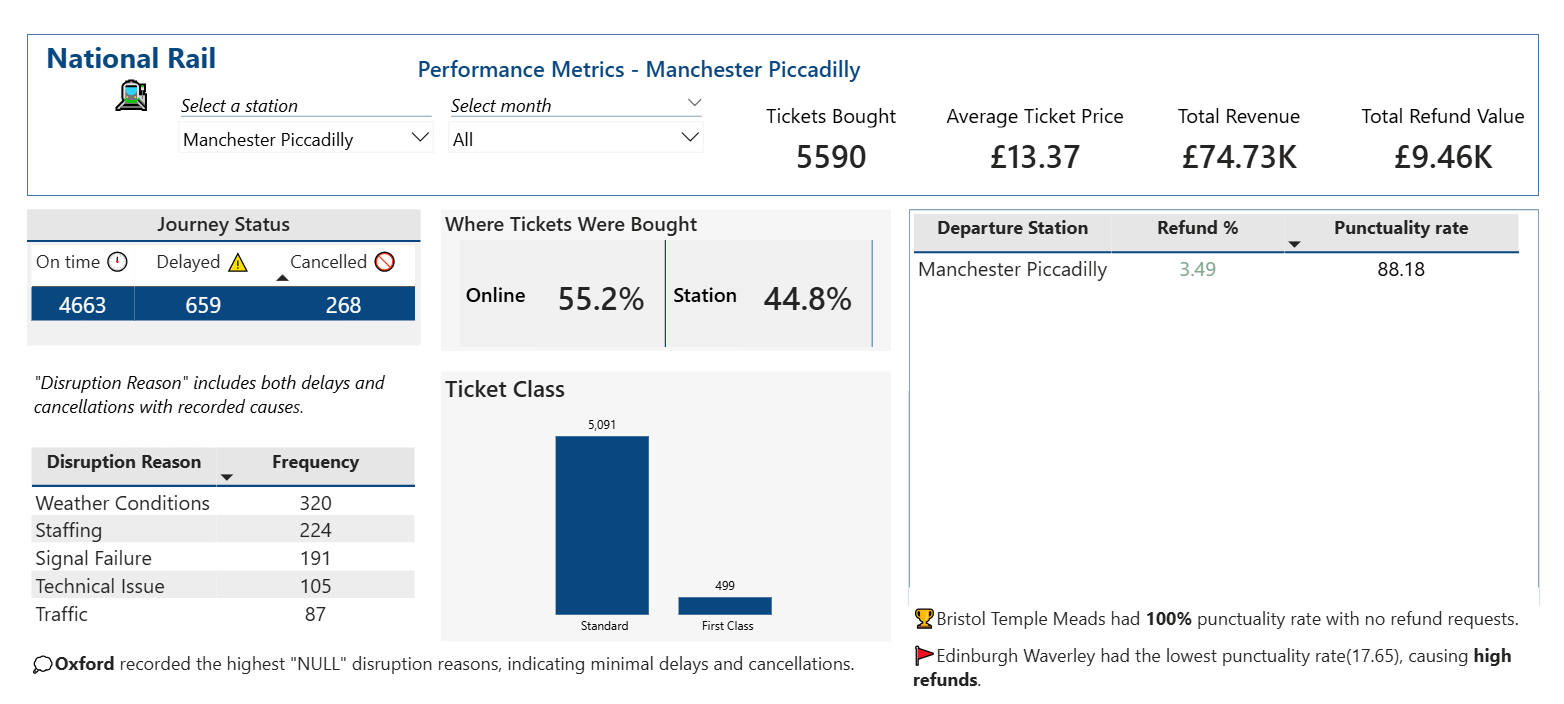

The dashboard page shown, as its layout file describes it:
{"tool":"powerbi","page":{"name":"Overview","canvas":[2100,950],"ordinal":0},"visuals":[{"type":"shape","box":[48,48,2016,216],"z":0},{"type":"tableEx","title":"Delay Information ","fields":{"Values":["Dim Delay_Reason.Delay_Reason","Rail Service Fact Table.Transaction_ID"]},"box":[48,594,528,264],"z":0,"group":"g2"},{"type":"cardVisual","fields":{"Data":["Base Measures.Avg.Ticket Price"]},"box":[1256,120,272,120],"z":1000},{"type":"tableEx","fields":{"Values":["Dim Departure_Station.Departure_Station","Base Measures.Refund Percentage (%)","Base Measures.Punctuality rate (%)"]},"box":[1224,282,840,528],"z":1000,"group":"g2"},{"type":"cardVisual","title":"Where Tickets Were Bought","fields":{"Rows":["Dim Purchase_Type.Purchase_Type"],"Data":["Min(Rail Service Fact Table.Transaction_ID)"]},"box":[600,282,600,188.5],"z":2000,"group":"g1"},{"type":"textbox","box":[48,864,1176,48],"z":2000},{"type":"cardVisual","fields":{"Data":["Base Measures.Total Revenue"]},"box":[1528,120,272,120],"z":3000},{"type":"tableEx","title":"Journey Status ","fields":{"Values":["Base Measures.On time trips","Base Measures.Delayed trips","Base Measures.Cancelled trips"]},"box":[48,282,524.5,181.4],"z":3000,"group":"g2"},{"type":"slicer","fields":{"Values":["Dim Departure_Station.Departure Station"]},"box":[240,120,360,120],"z":4000},{"type":"group","id":"g1","title":"Group 4","box":[600,282,600,576],"z":4000,"group":"g2"},{"type":"columnChart","title":"Ticket Class ","fields":{"Y":["Base Measures.Total Tickets"],"Category":["Dim Ticket_Class.Ticket_Class"]},"box":[600,498,600,360],"z":4000,"group":"g1"},{"type":"cardVisual","fields":{"Data":["Base Measures.Total Refund Amount"]},"box":[1800,120,272,120],"z":5000},{"type":"textbox","box":[51.5,489.4,524.5,103.7],"z":5000,"group":"g2"},{"type":"group","id":"g2","title":"Group 7","box":[48,282,2016,648],"z":6000},{"type":"cardVisual","fields":{"Data":["Base Measures.Dynamic Title"]},"box":[312,48,1104,72],"z":7000},{"type":"textbox","box":[1224,786,840,144],"z":8000,"group":"g2"},{"type":"cardVisual","fields":{"Data":["Base Measures.Total Tickets"]},"box":[984,120,272,120],"z":9000},{"type":"textbox","box":[48,48,288,120],"z":10000},{"type":"slicer","title":"Select month","fields":{"Values":["Date Table.Month_Name"]},"box":[600,120,360,120],"z":15000}]}

Visuals, with their boxes in screenshot pixels (x1, y1, x2, y2), scaled from the page's 2100x950 canvas onto the 1564x704 screenshot:
shape: (36,36,1537,196)
"Delay Information " tableEx: (36,440,429,636)
cardVisual - Base Measures.Avg.Ticket Price: (935,89,1138,178)
tableEx - Dim Departure_Station.Departure_Station x Base Measures.Refund Percentage (%): (912,209,1537,600)
"Where Tickets Were Bought" cardVisual: (447,209,894,349)
textbox: (36,640,912,676)
cardVisual - Base Measures.Total Revenue: (1138,89,1341,178)
"Journey Status " tableEx: (36,209,426,343)
slicer - Dim Departure_Station.Departure Station: (179,89,447,178)
"Group 4" group: (447,209,894,636)
"Ticket Class " columnChart: (447,369,894,636)
cardVisual - Base Measures.Total Refund Amount: (1341,89,1543,178)
textbox: (38,363,429,440)
"Group 7" group: (36,209,1537,689)
cardVisual - Base Measures.Dynamic Title: (232,36,1055,89)
textbox: (912,582,1537,689)
cardVisual - Base Measures.Total Tickets: (733,89,935,178)
textbox: (36,36,250,124)
"Select month" slicer: (447,89,715,178)
